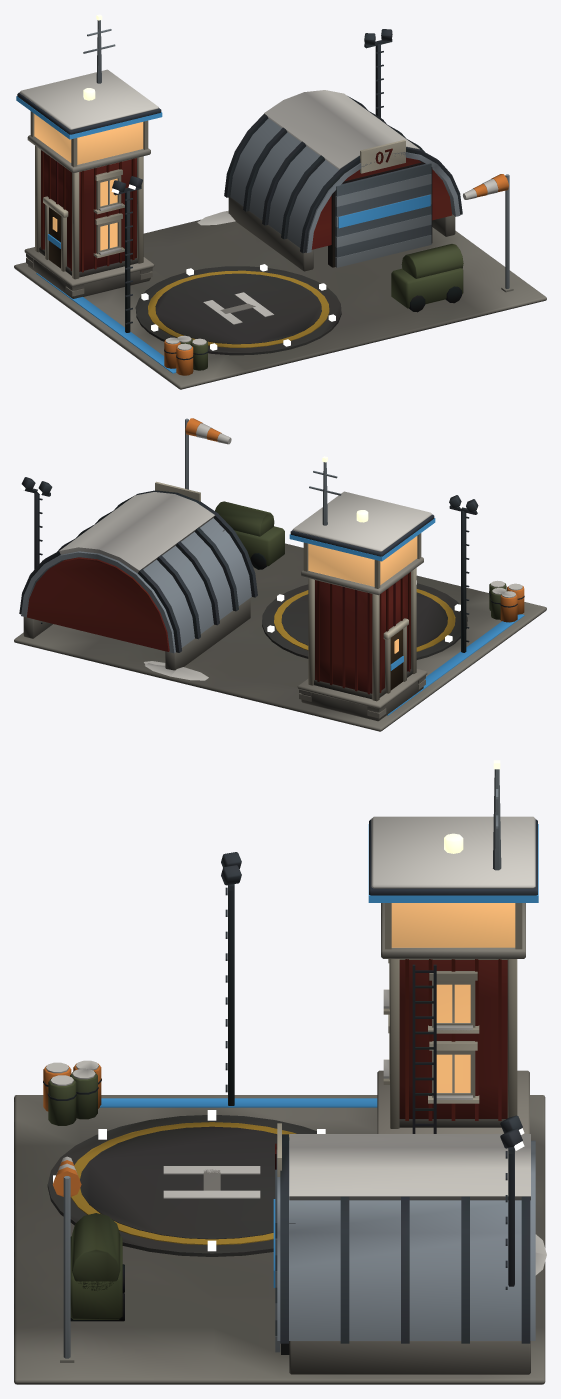
Rendered from airfield.glb.
3 views of the same model, one above another, from view 1: azimuth 30°, elevation 25°; view 2: azimuth 150°, elevation 25°; view 3: azimuth 270°, elevation 25° (orthographic). The views are drawn at different scales.
Parts seen in each view (by area): view 1: airfield_root_matte, airfield_root_metal, airfield_door_metal, airfield_root_glass, airfield_root_trim, airfield_door_trim, airfield_root_lamp; view 2: airfield_root_matte, airfield_root_metal, airfield_root_glass, airfield_root_trim, airfield_root_lamp; view 3: airfield_root_matte, airfield_root_metal, airfield_root_glass, airfield_root_trim, airfield_root_lamp.
Part boxes in pixels (<box>): airfield_root_matte: <box>14,69,546,389</box>; airfield_root_metal: <box>83,20,509,332</box>; airfield_door_metal: <box>335,163,431,267</box>; airfield_root_glass: <box>34,114,143,250</box>; airfield_root_trim: <box>16,96,176,373</box>; airfield_door_trim: <box>338,194,430,228</box>; airfield_root_lamp: <box>83,14,335,350</box>; airfield_root_matte: <box>14,418,546,731</box>; airfield_root_metal: <box>19,418,478,653</box>; airfield_root_glass: <box>308,536,417,653</box>; airfield_root_trim: <box>289,518,524,715</box>; airfield_root_lamp: <box>20,456,479,642</box>; airfield_root_matte: <box>14,816,546,1384</box>; airfield_root_metal: <box>63,769,535,1358</box>; airfield_root_glass: <box>391,903,515,1092</box>; airfield_root_trim: <box>100,824,538,1107</box>; airfield_root_lamp: <box>53,760,524,1251</box>.
Size of the model in its own units: 14.07 by 8.98 by 11.03.
